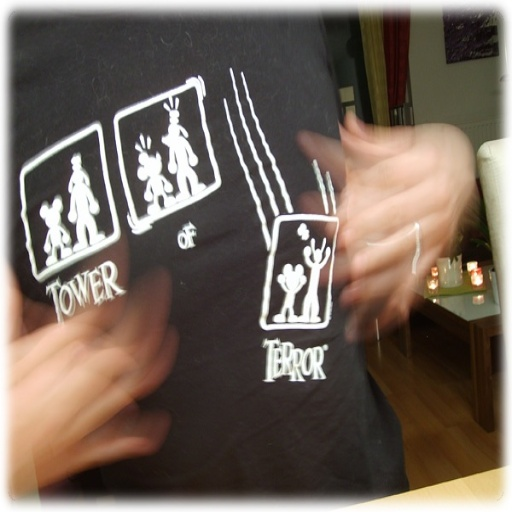hand: (0, 266, 210, 482), (297, 106, 479, 348)
